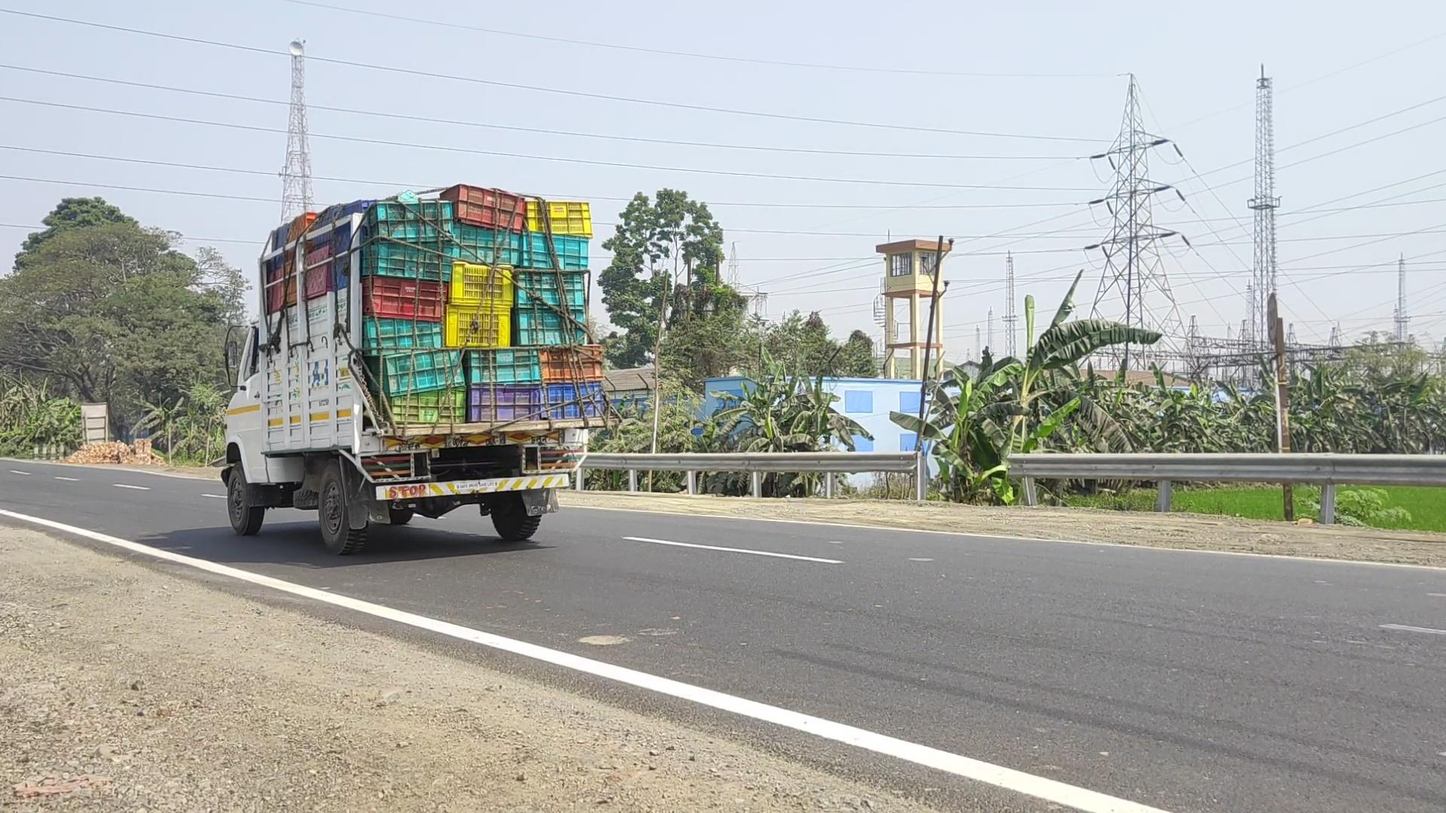truck: (221, 183, 623, 556)
